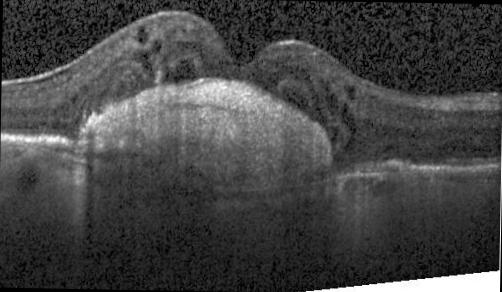intraretinal_cyst: (339, 105, 355, 150), (283, 89, 307, 111), (134, 52, 153, 75), (323, 94, 339, 118), (342, 85, 357, 102), (330, 128, 339, 150), (150, 41, 161, 54), (136, 26, 144, 43)
neuroepithelium_detachment: (165, 58, 197, 81)
subretinal_hyperreflective_material: (76, 78, 332, 188)
